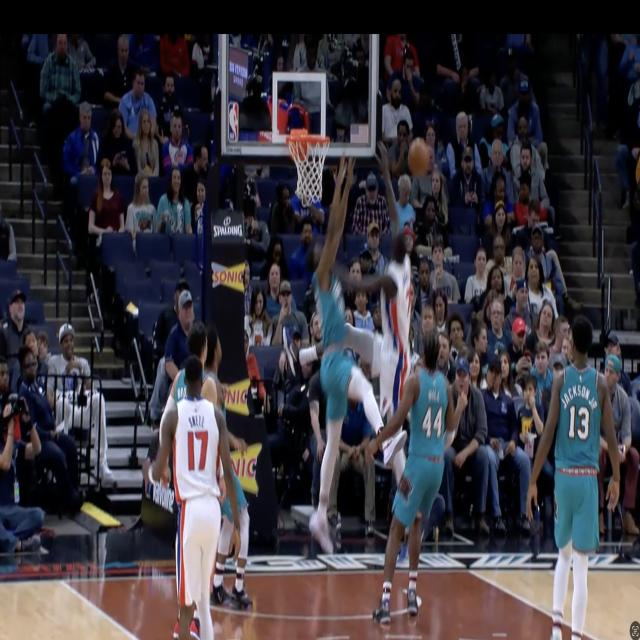foul: (312, 141, 414, 551)
no foul: (149, 322, 227, 640), (381, 328, 456, 633), (207, 354, 250, 611)
